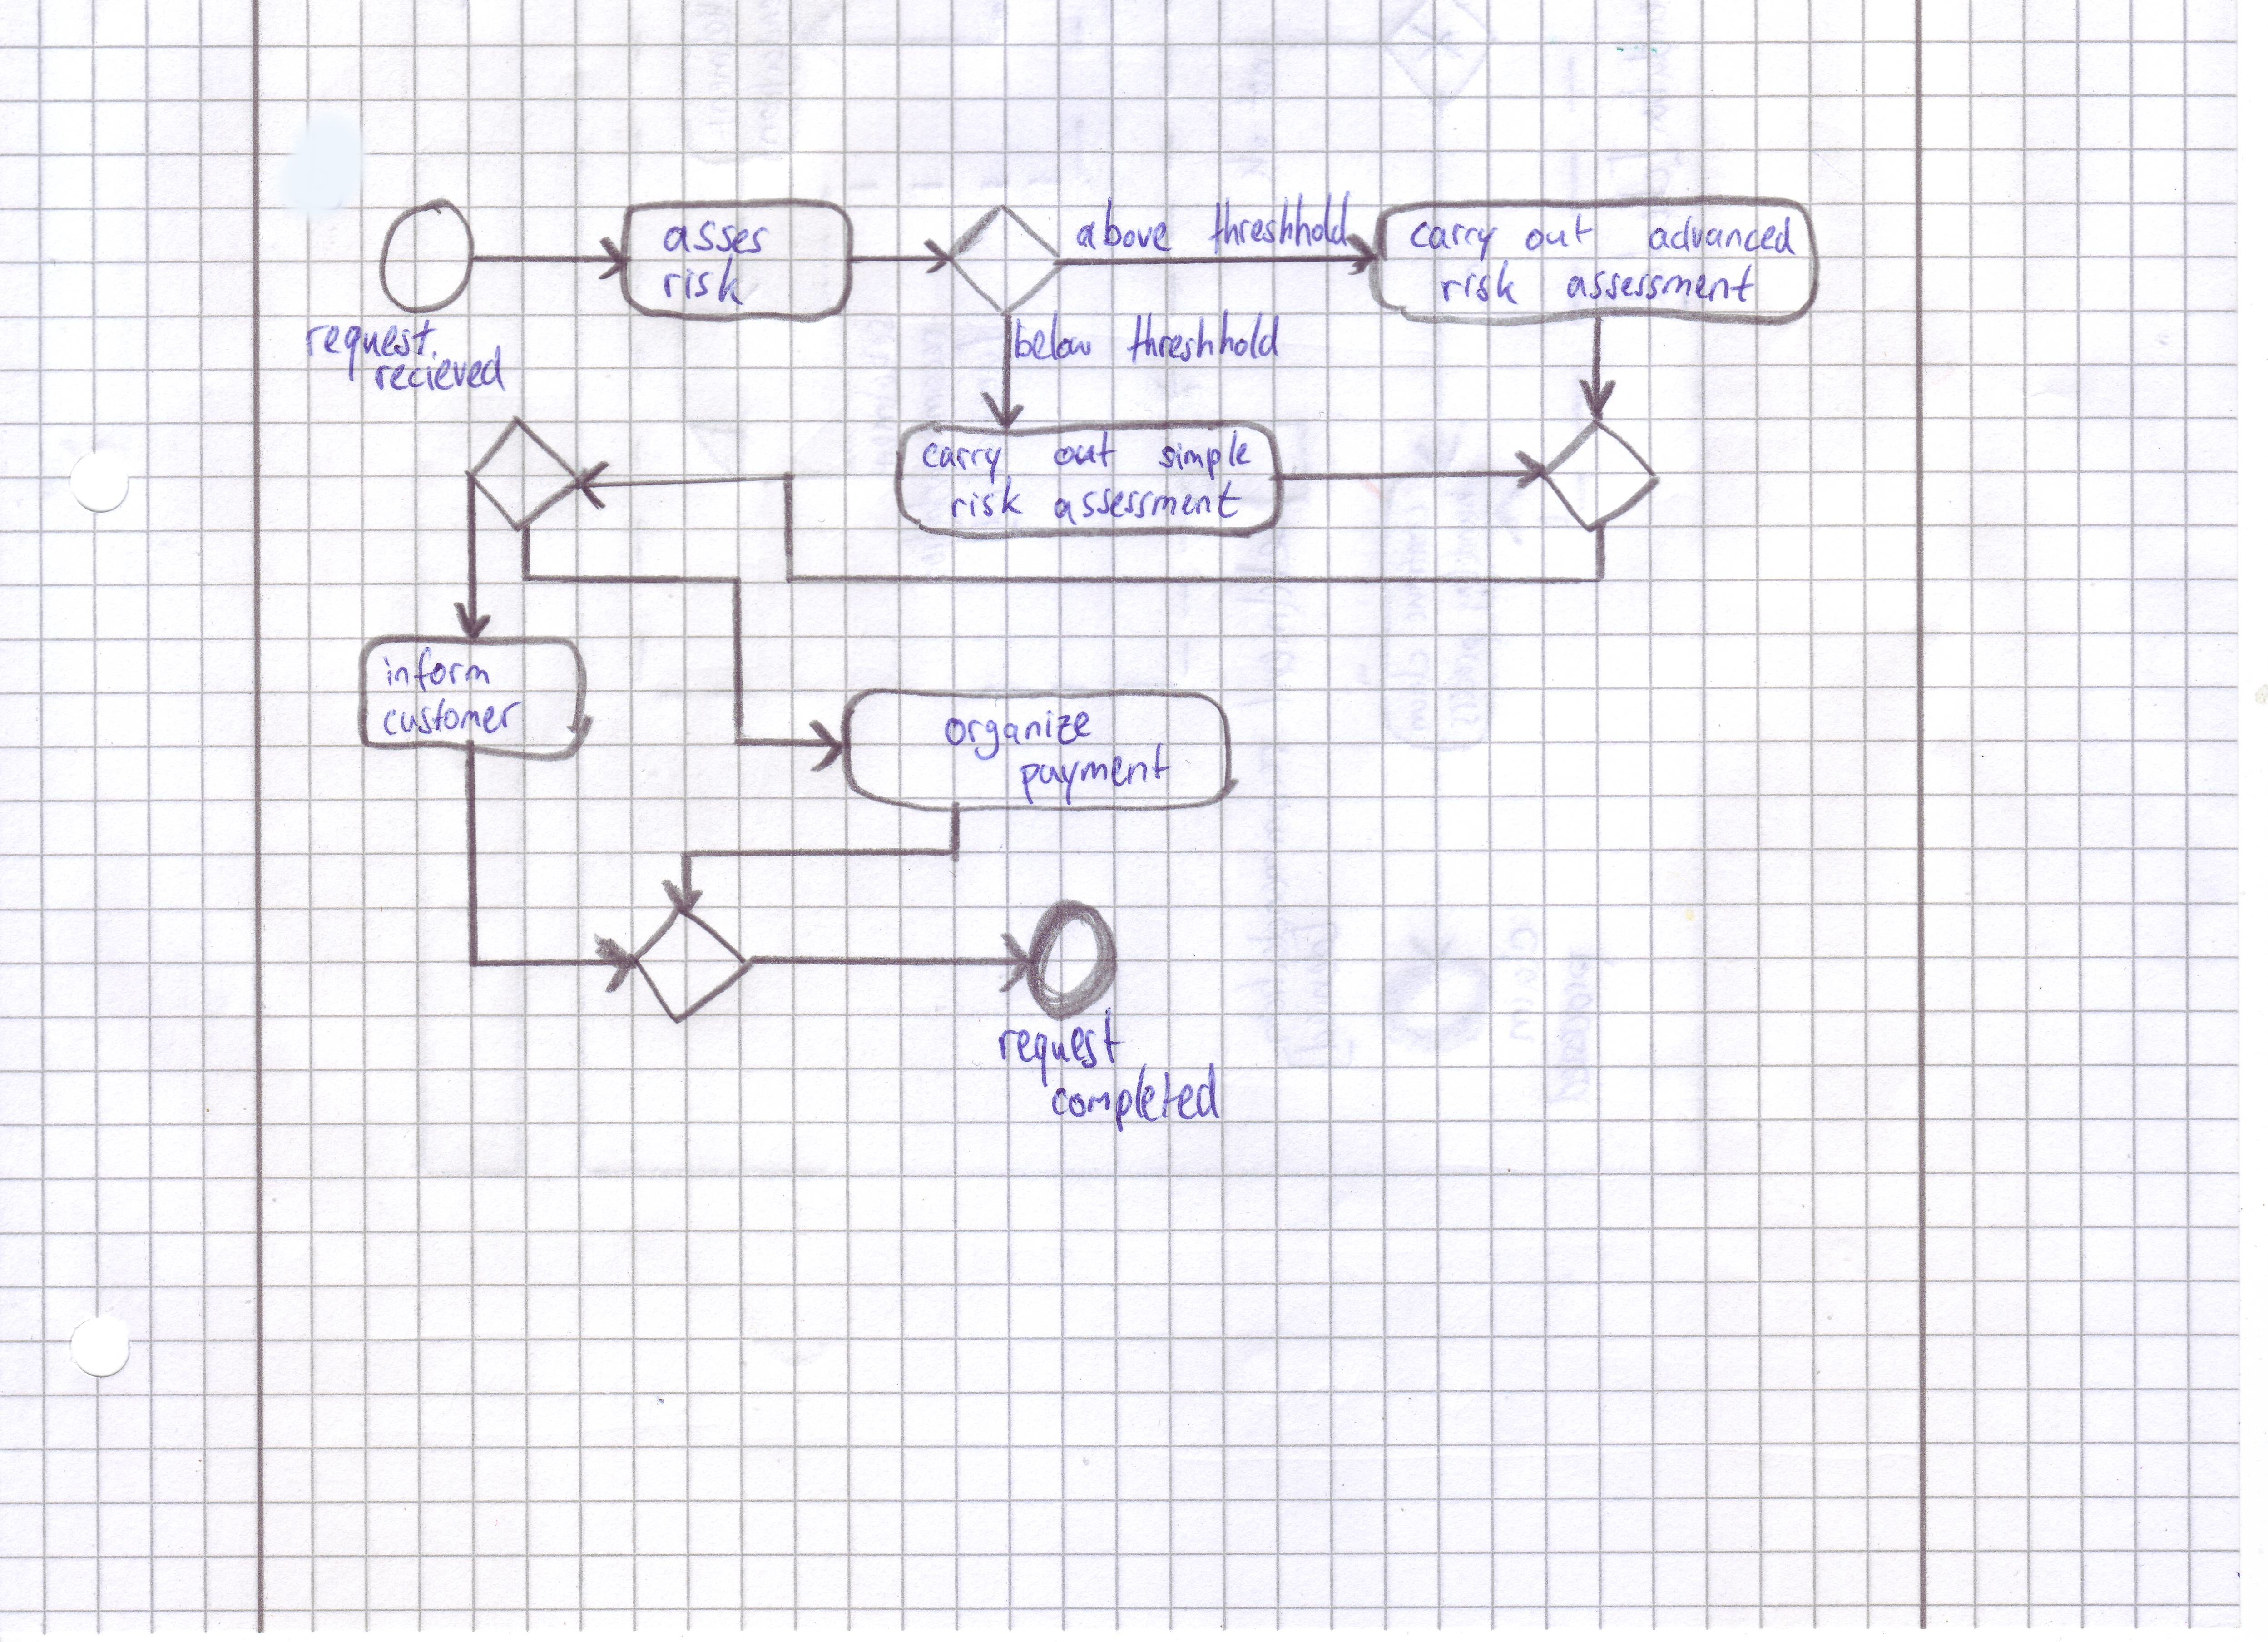above: (1072, 195, 1176, 255)
advanced: (1646, 213, 1798, 259)
asses: (660, 216, 773, 257)
assessment: (1051, 479, 1243, 528), (1564, 262, 1759, 306)
below: (1012, 308, 1094, 363)
carry: (1407, 220, 1500, 264), (921, 440, 1004, 487)
completed: (1049, 1061, 1222, 1135)
customer: (380, 697, 523, 739)
inform: (380, 644, 493, 695)
organize: (940, 706, 1095, 762)
out: (1523, 211, 1595, 253), (1051, 429, 1120, 470)
payment: (1016, 741, 1173, 808)
recieved: (372, 343, 509, 394)
request: (997, 1007, 1127, 1089), (303, 319, 438, 384)
risk: (660, 252, 747, 306), (1437, 257, 1521, 306), (949, 473, 1025, 519)
simple: (1157, 428, 1254, 482)
threshhold: (1208, 188, 1354, 257), (1123, 306, 1284, 364)
